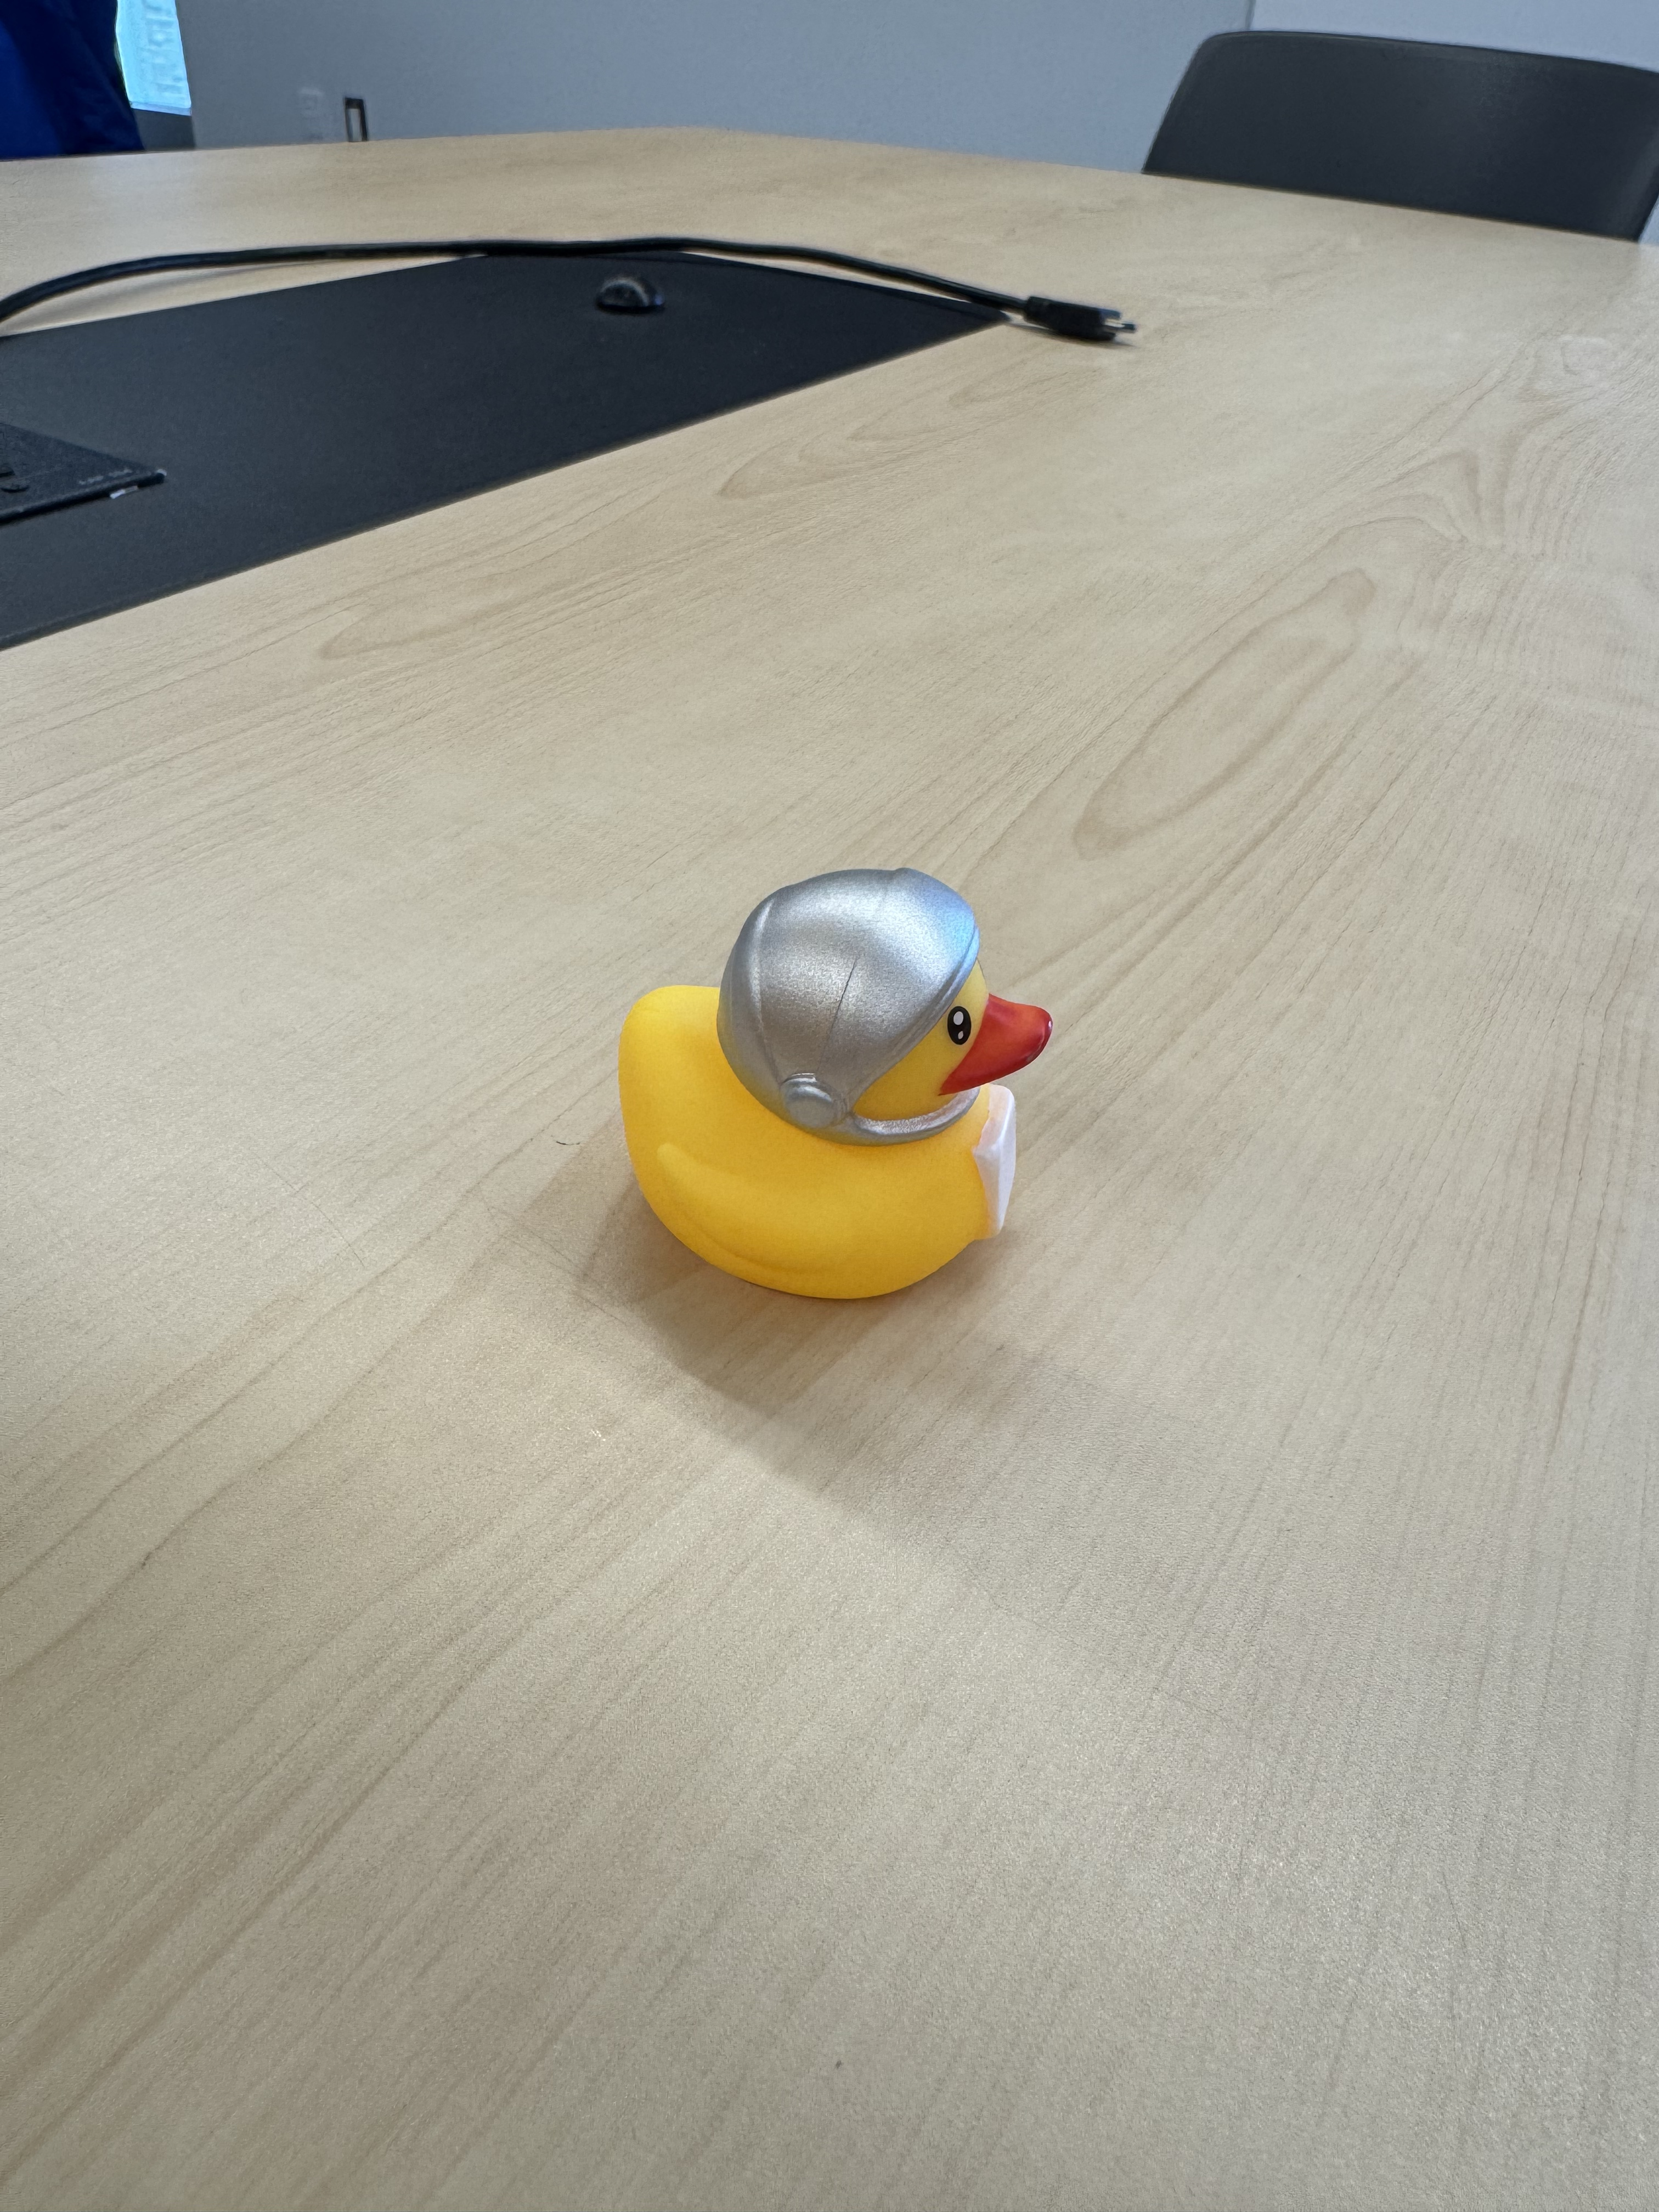duck_specialty: (606, 845, 1061, 1308)
